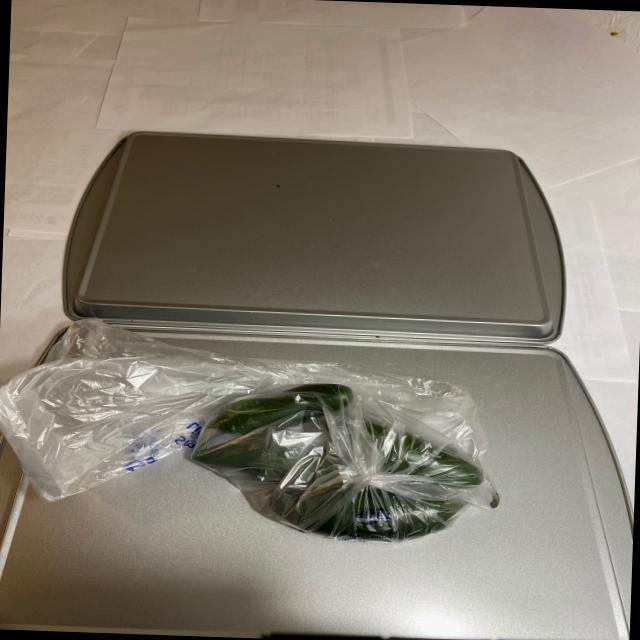chilli: (172, 370, 516, 541)
